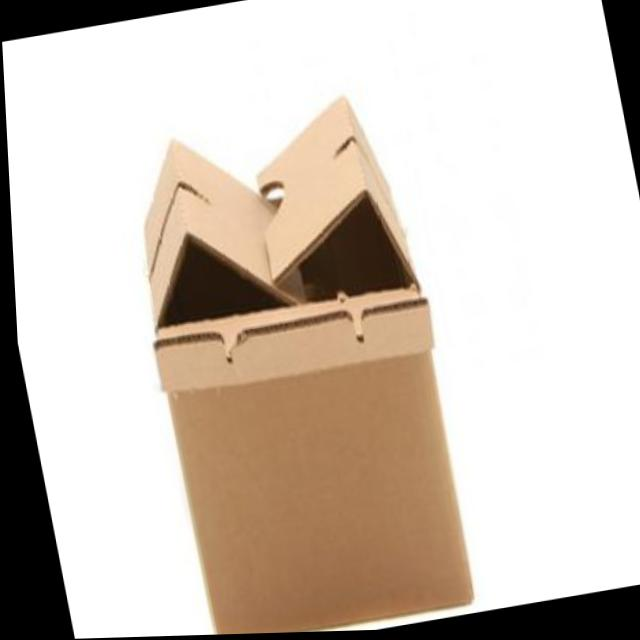box: (106, 88, 491, 638)
